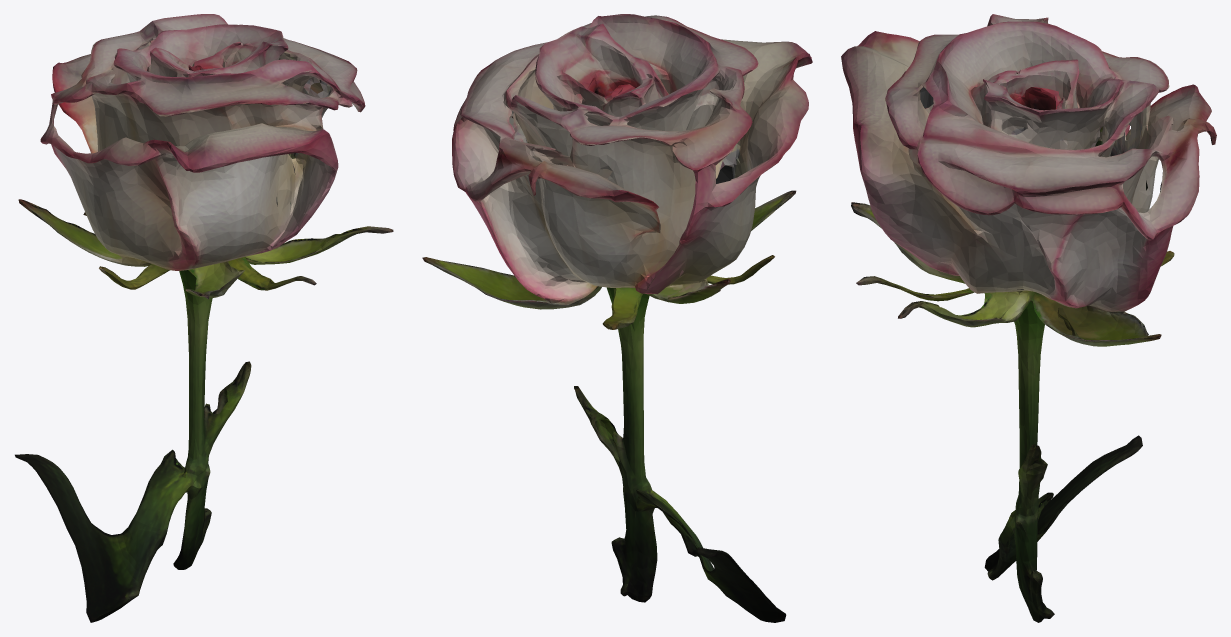
3 renders of one model, left to right at view 1: azimuth 30°, elevation 25°; view 2: azimuth 150°, elevation 25°; view 3: azimuth 270°, elevation 25°, orthographic. The views are drawn at different scales.
Parts seen in each view (by area): view 1: world; view 2: world; view 3: world.
Boxes of the visible parts, box(x1,y1,x2,y2) form: world: box(15, 14, 393, 622); world: box(422, 14, 812, 622); world: box(841, 14, 1216, 622).
Bounding box in the file's own units: 0.5546 × 0.9864 × 0.5743.
Materials: 1 (1 with a texture image).
